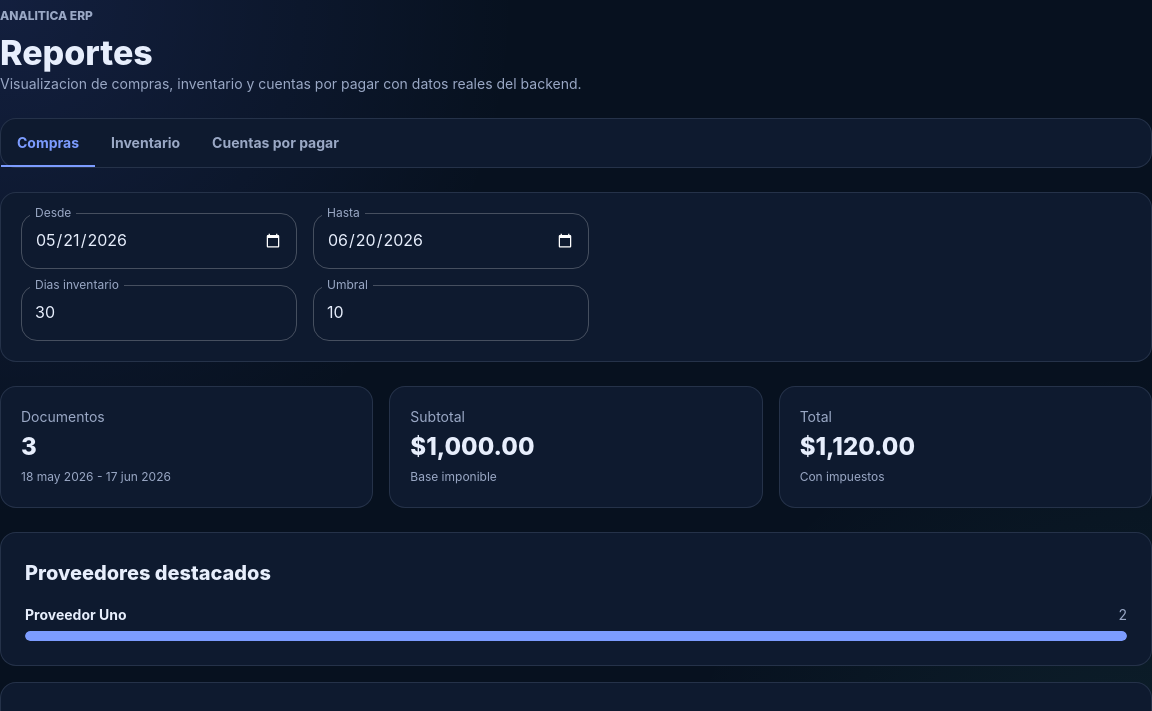
ReportsPage › loads real report data and switches between report tabs
The image size is (1152, 711).
Expected: the heading "Proveedores destacados" is shown, [25, 561, 271, 585]
Click the tab "Inventario".
click(146, 143)  # box [95, 119, 196, 167]
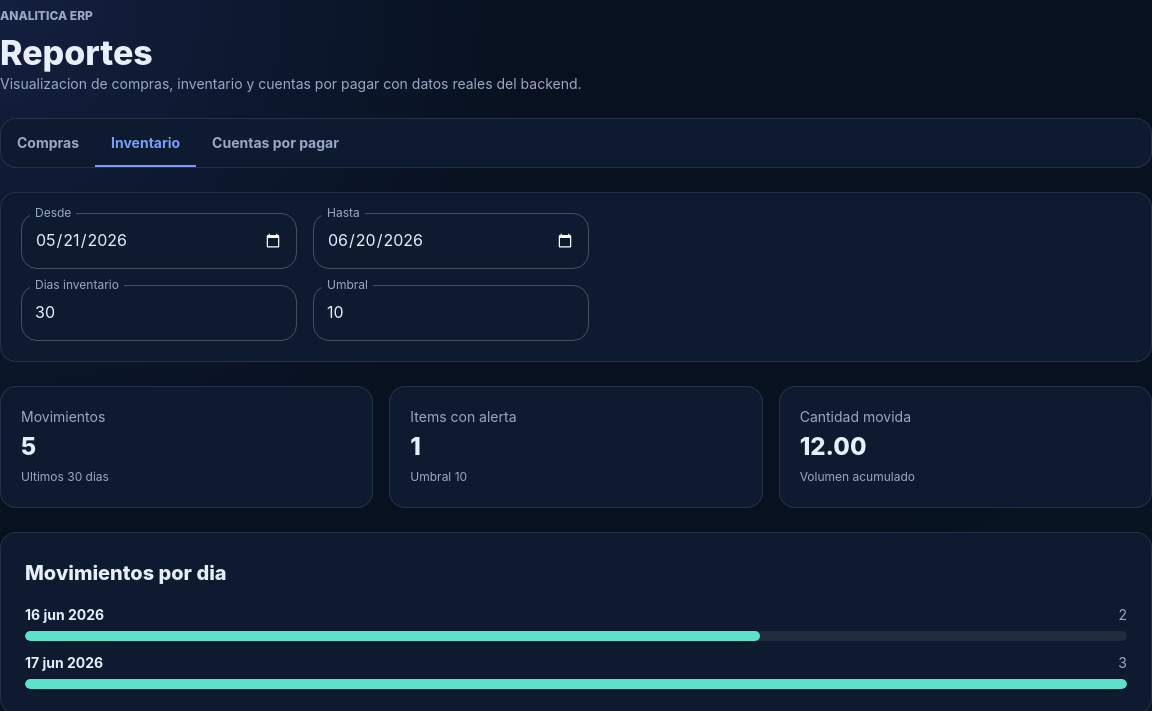
Click the tab "Cuentas por pagar".
click(276, 143)  # box [196, 119, 355, 167]
(page scrolled)
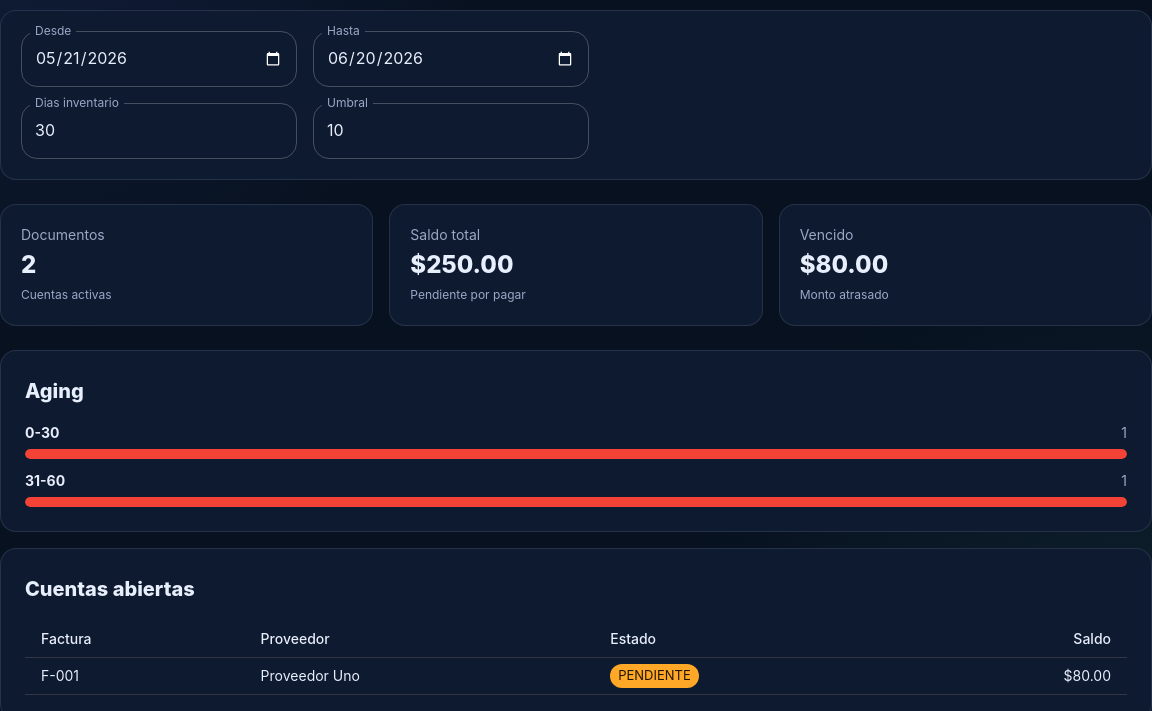
Expected: the heading "Aging" is shown, [25, 379, 84, 403]
Expected: the text "F-001" is shown, [25, 658, 245, 694]
